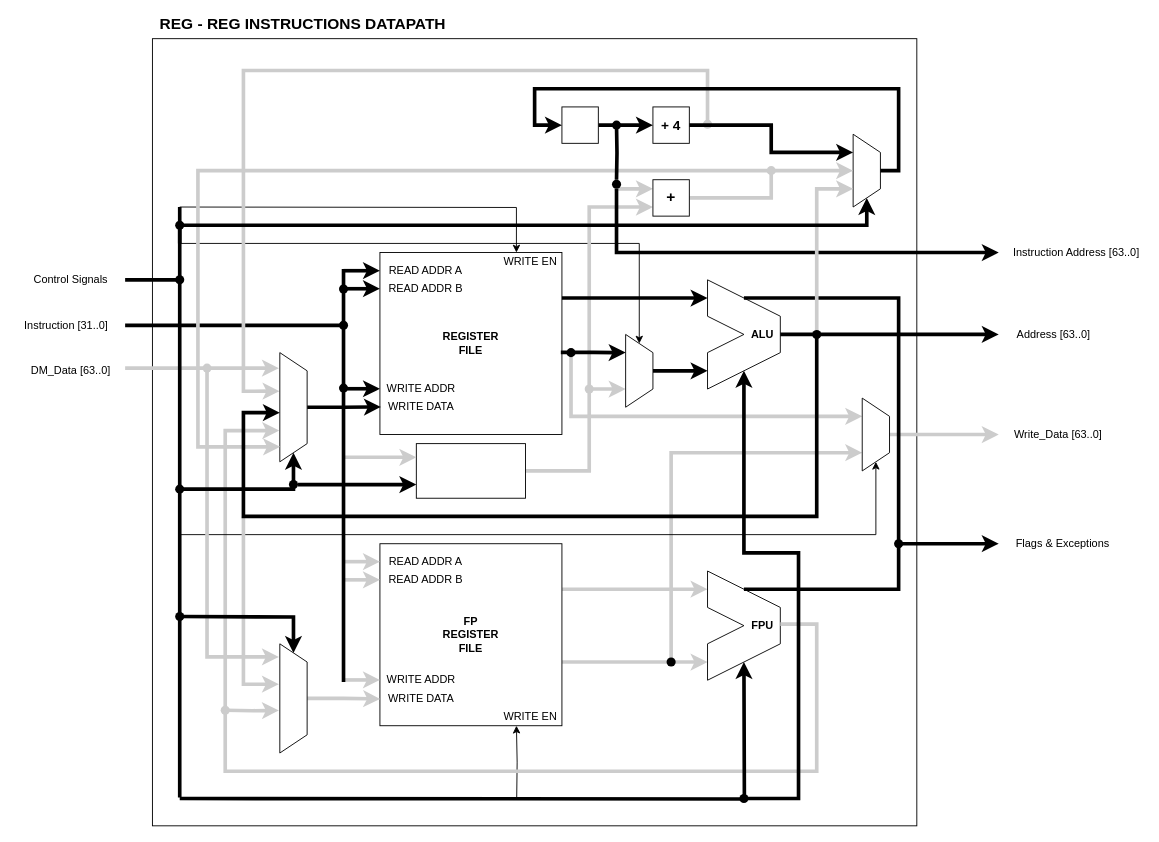
The diagram is 1159 pixels wide and 842 high, and some of its shapes have lost their labels. The shapes that lost their labels are listed below. From the top down, each one's centre as x and y in pixels, then its label:
At pixel 579 124: "PC".
At pixel 470 470: "IMMEDIATE GENARATOR".
